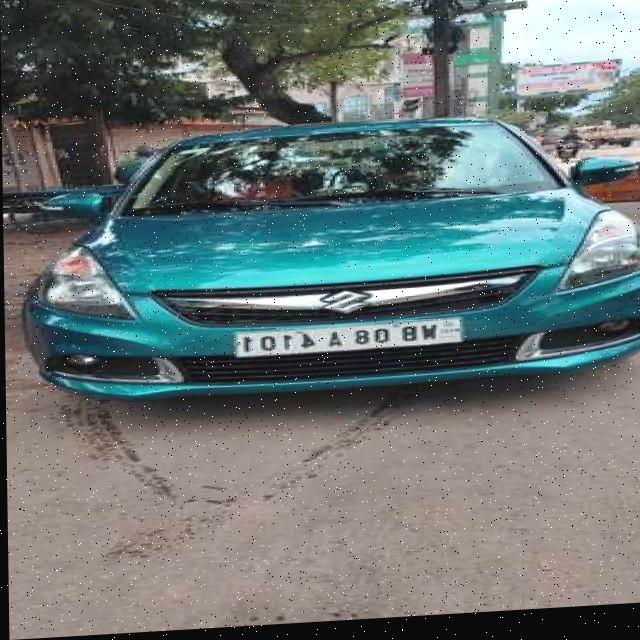plate: (235, 323, 464, 361)
